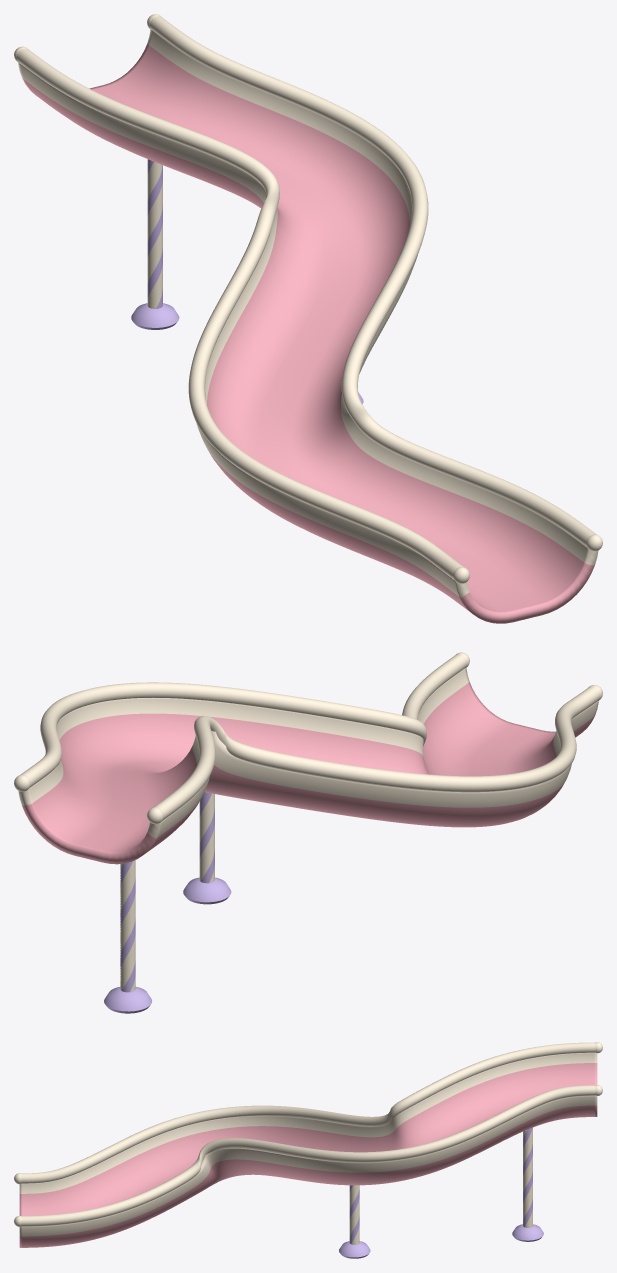
The model's file is chute.glb.
The picture shows the model from 3 angles, top to bottom: view 1: azimuth 30°, elevation 25°; view 2: azimuth 150°, elevation 25°; view 3: azimuth 270°, elevation 25°; orthographic projection. The views are drawn at different scales.
Parts seen in each view (by area): view 1: chute; view 2: chute; view 3: chute.
Boxes of the visible parts, x1,y1,x2,y2 form: chute: [14, 14, 602, 623]; chute: [14, 652, 602, 1013]; chute: [14, 1042, 602, 1258].
Size of the model in its own units: 3.57 by 2.68 by 8.16.
